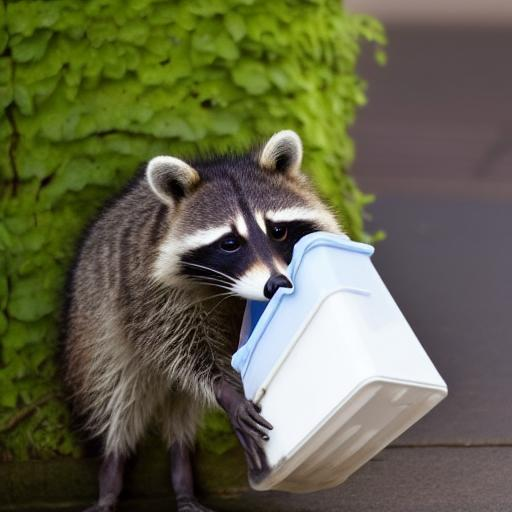raccoon: (48, 124, 352, 495)
